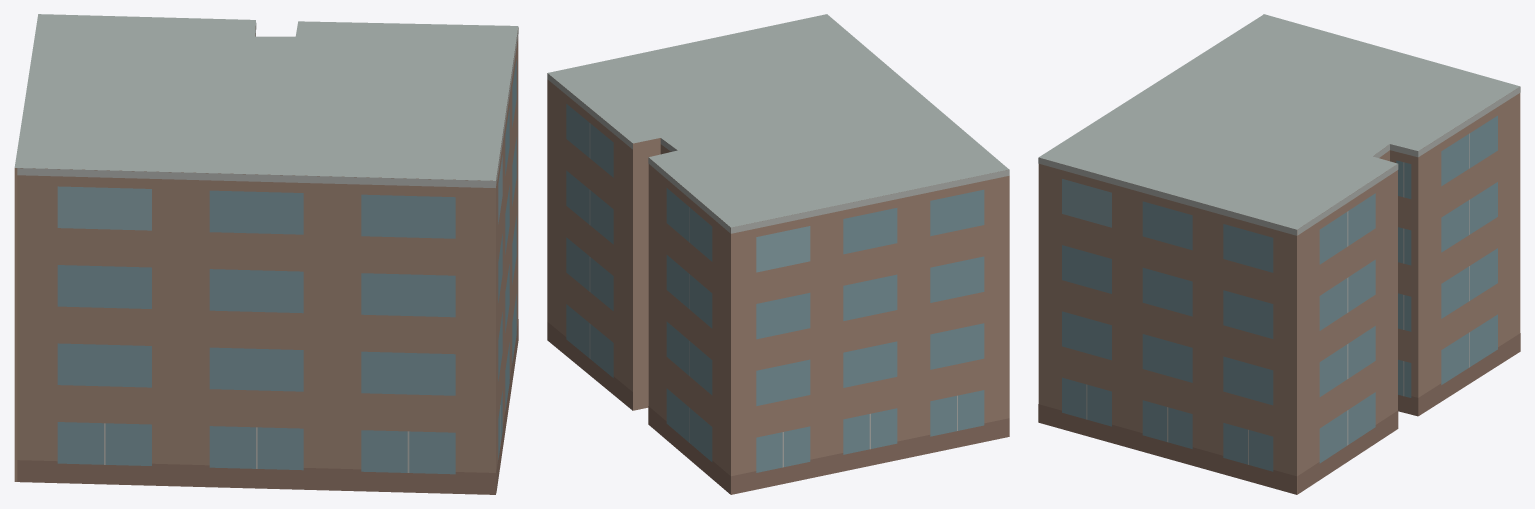
The model's file is survey-upis-32978268.glb.
3 renders of one model, left to right at view 1: azimuth 30°, elevation 25°; view 2: azimuth 150°, elevation 25°; view 3: azimuth 270°, elevation 25°, orthographic. The views are drawn at different scales.
Parts seen in each view (by area): view 1: survey-upis-32978268.tmp; view 2: survey-upis-32978268.tmp; view 3: survey-upis-32978268.tmp.
Boxes of the visible parts, x1,y1,x2,y2 form: survey-upis-32978268.tmp: (14,14,518,494); survey-upis-32978268.tmp: (547,14,1009,494); survey-upis-32978268.tmp: (1038,14,1520,494).
Size of the model in its own units: 18.33 by 10.5 by 17.31.
